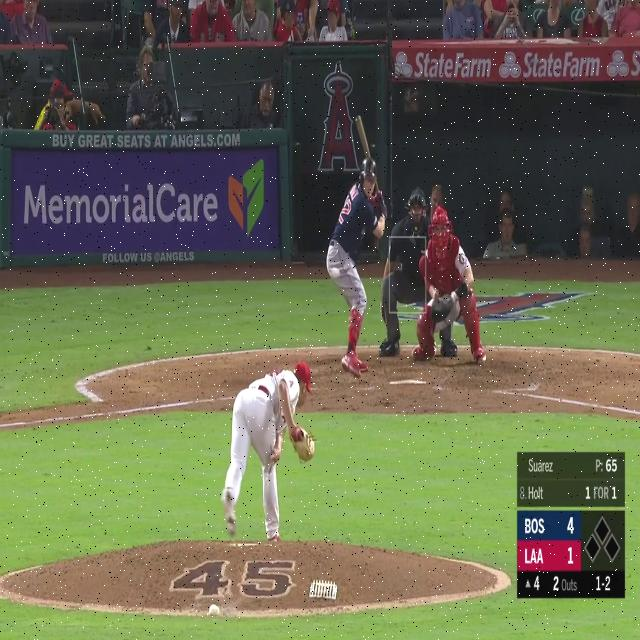baseball: (331, 267, 340, 278)
